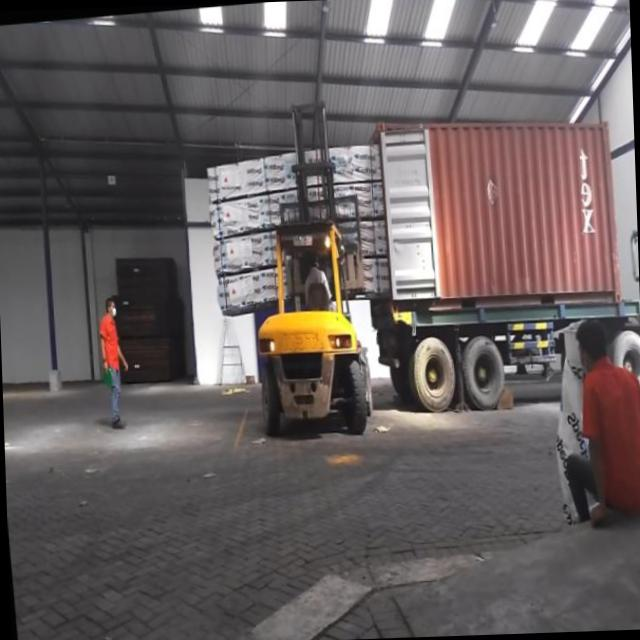driver: (302, 252, 331, 306)
forklift: (242, 198, 379, 448)
person: (551, 315, 640, 528), (94, 294, 134, 431)
